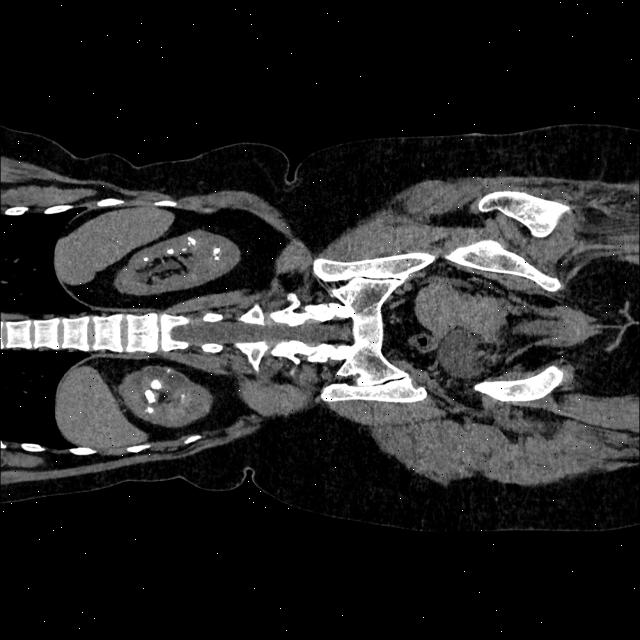kidneystone: (145, 389, 156, 402), (213, 246, 221, 260), (151, 379, 162, 389), (187, 235, 196, 245), (145, 406, 154, 412), (167, 248, 174, 254), (142, 256, 148, 261)
